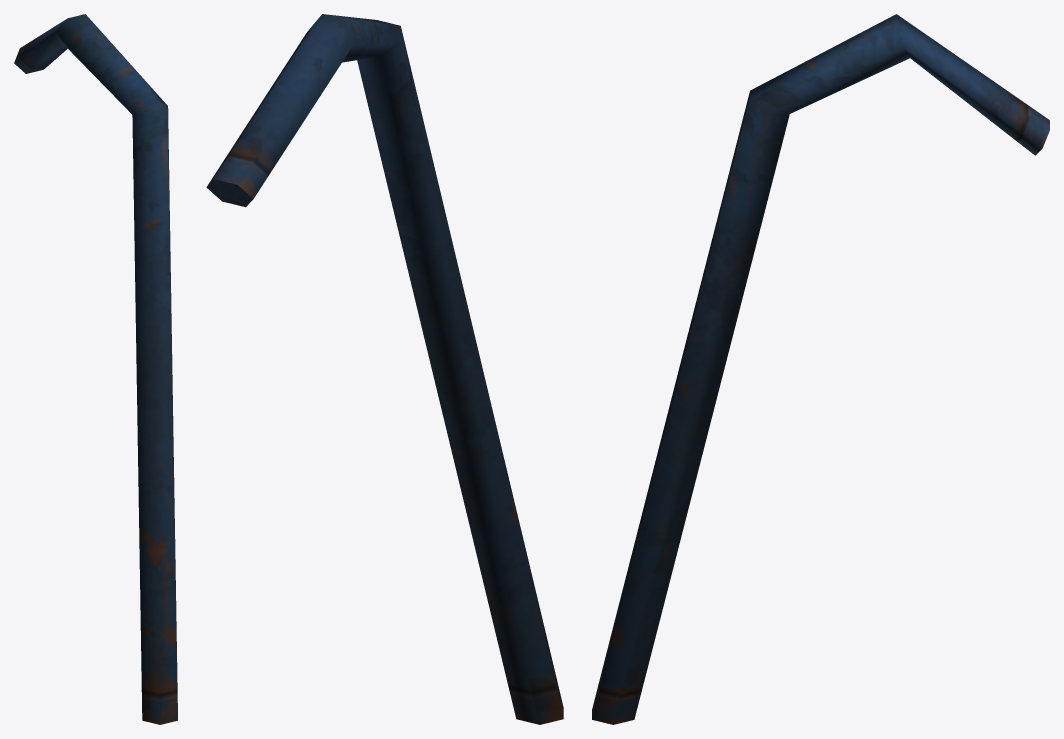
The model's file is Stage-gongchang-bianlan9.FBX.
The picture shows the model from 3 angles, left to right: view 1: azimuth 30°, elevation 25°; view 2: azimuth 150°, elevation 25°; view 3: azimuth 270°, elevation 25°; orthographic projection. The views are drawn at different scales.
Parts seen in each view (by area): view 1: Object03; view 2: Object03; view 3: Object03.
Part boxes in pixels (<box>): Object03: <box>14,14,177,724</box>; Object03: <box>206,14,563,724</box>; Object03: <box>592,14,1049,724</box>.
Bounding box in the file's own units: 0.7031 × 2.56 × 4.42.
